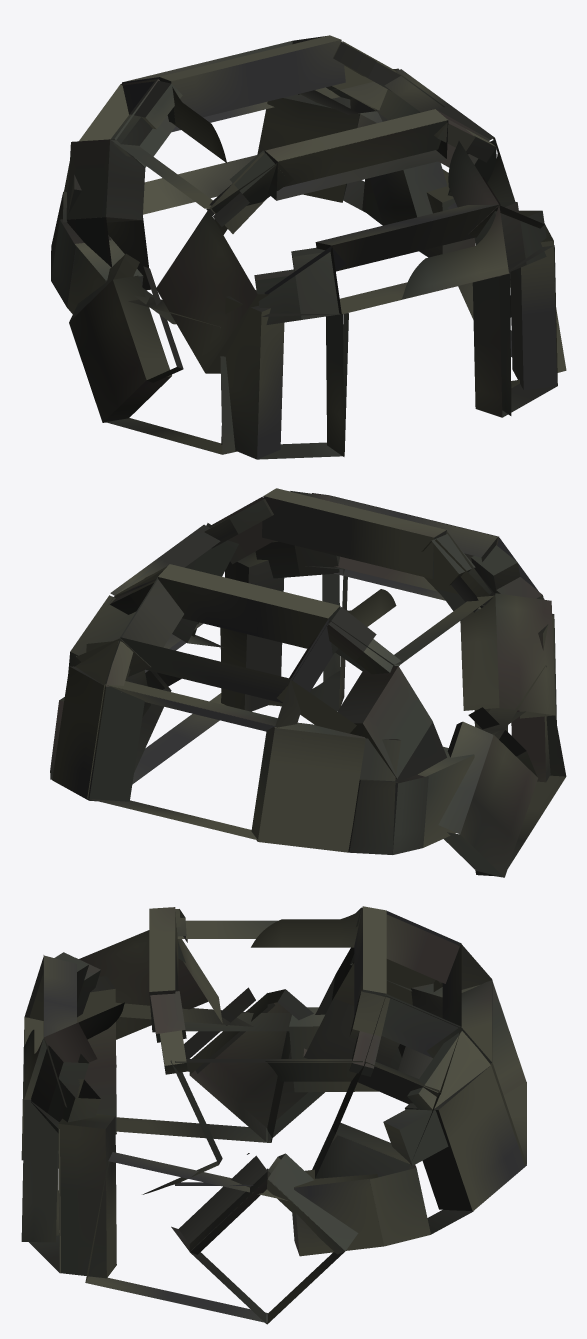
Rendered from six_b_four_seven_dark_h.obj.
The picture shows the model from 3 angles, top to bottom: view 1: azimuth 30°, elevation 25°; view 2: azimuth 150°, elevation 25°; view 3: azimuth 270°, elevation 25°; orthographic projection.
Visible parts, largest first — view 1: cuboid; view 2: cuboid; view 3: cuboid.
Boxes of the visible parts, x1,y1,x2,y2 form: cuboid: (51, 35, 566, 459); cuboid: (50, 488, 566, 877); cuboid: (21, 906, 526, 1324).
Bounding box in the file's own units: 0.8065 × 0.521 × 0.9393.
